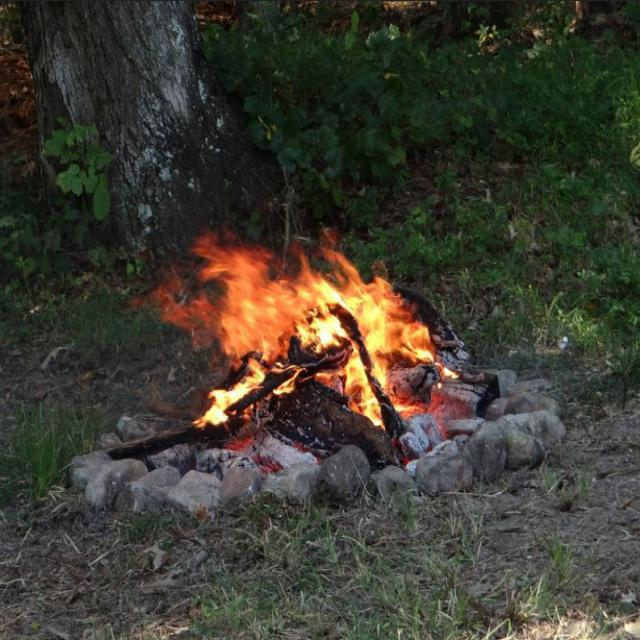Fire: (219, 262, 429, 424)
